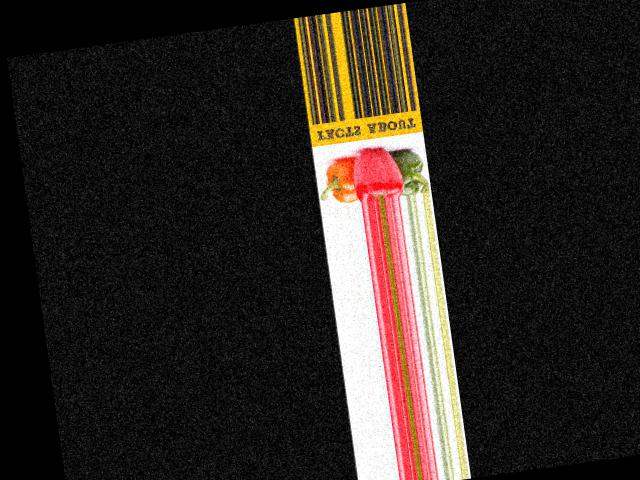bell_pepper: (394, 140, 429, 195)
